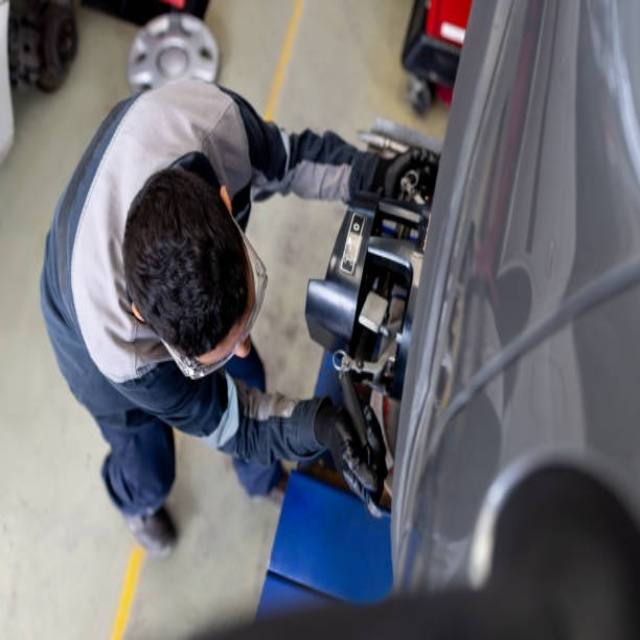Gafas: (158, 207, 267, 379)
Guantes: (315, 395, 385, 511), (372, 146, 432, 204)
